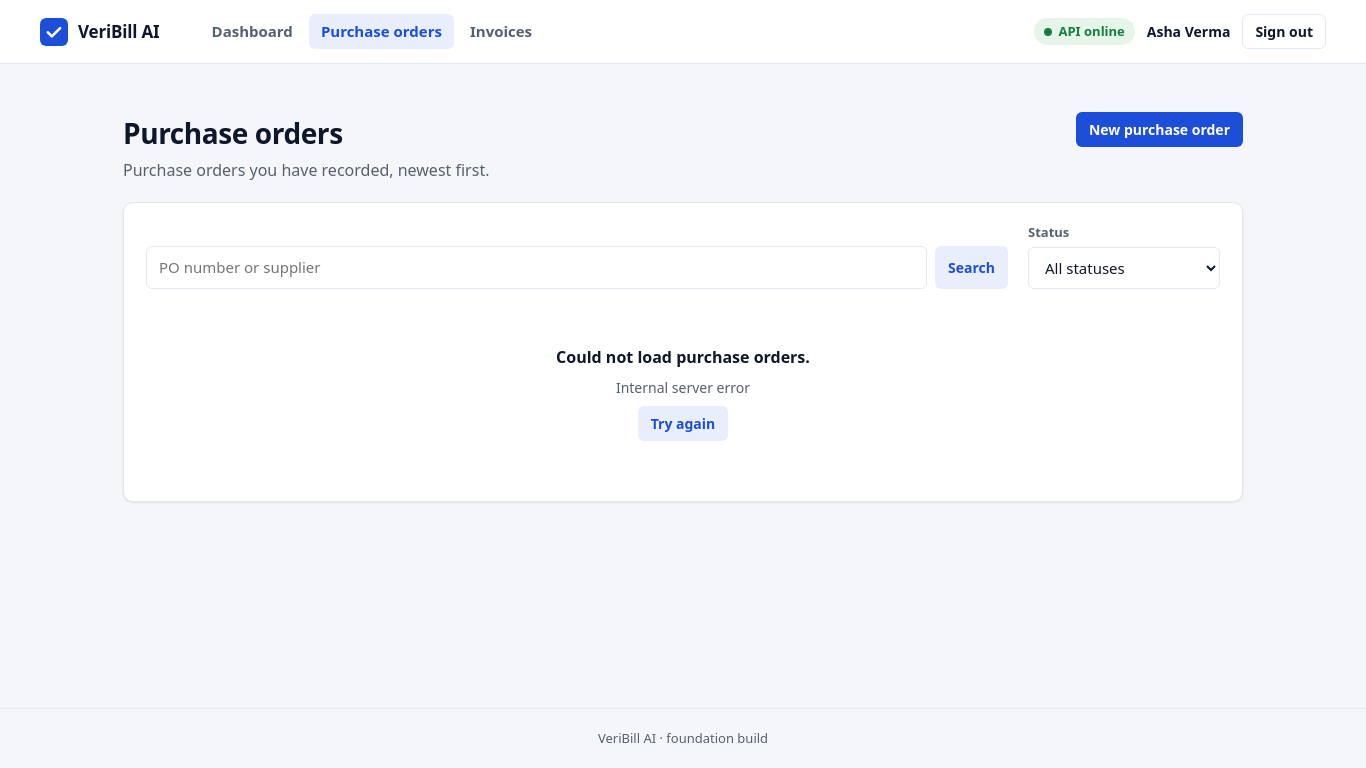
Test case: PurchaseOrdersPage › explains a failed load and retries
Expected: the message shows "Could not load purchase orders.", [556, 346, 810, 368]
Expected: the message shows "Internal server error", [616, 378, 750, 396]
Click the button "Try again". click: (683, 423)
box: [638, 406, 728, 440]
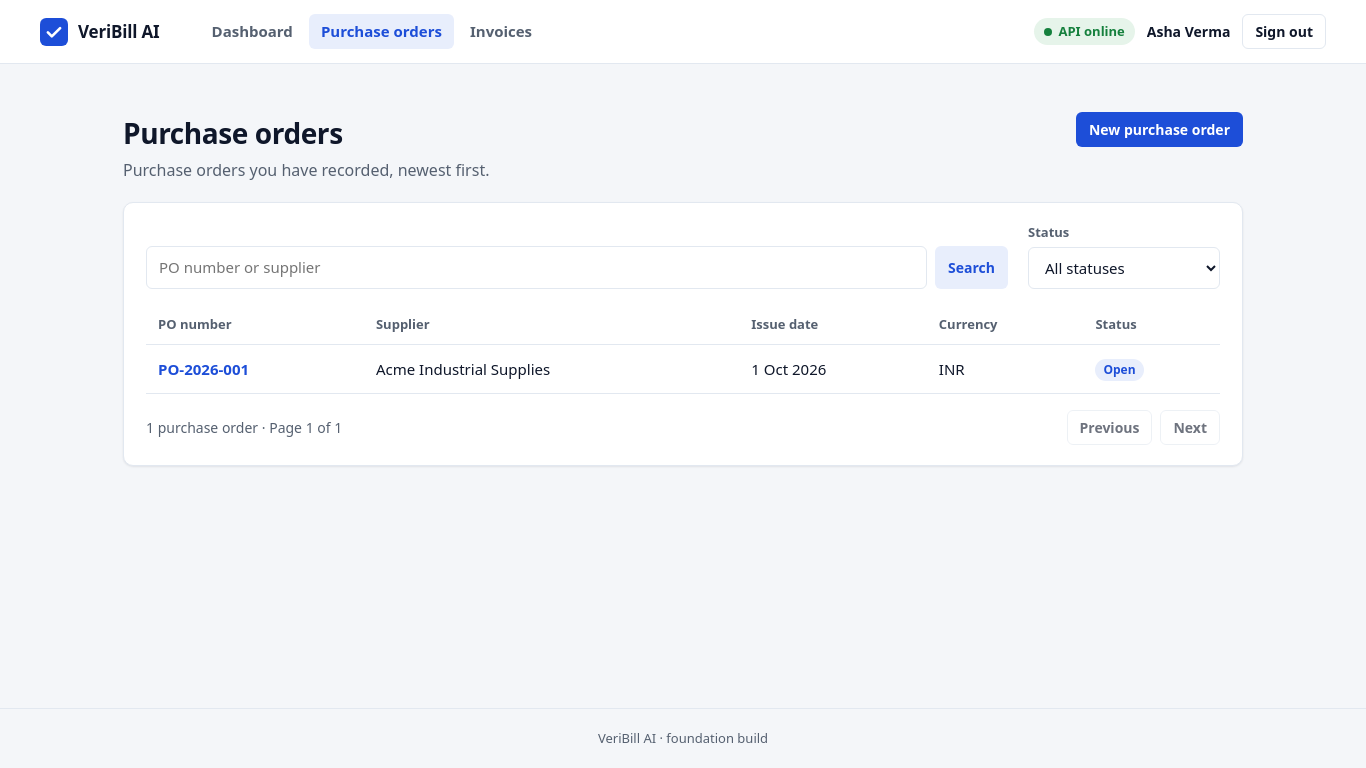
Expected: the link "PO-2026-001" is shown, [158, 359, 249, 379]
